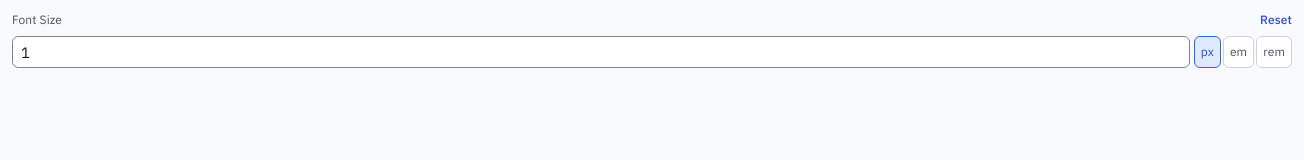
Scenario: the arrows stop at min and max
Click the field labelled "Font Size" at coordinates (601, 52), box [12,36,1190,68]
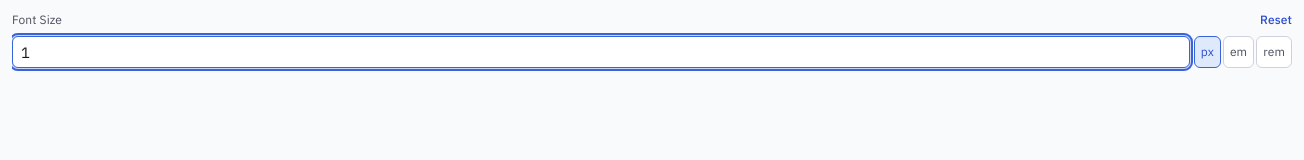
Press Arrowdown Arrowdown Arrowdown
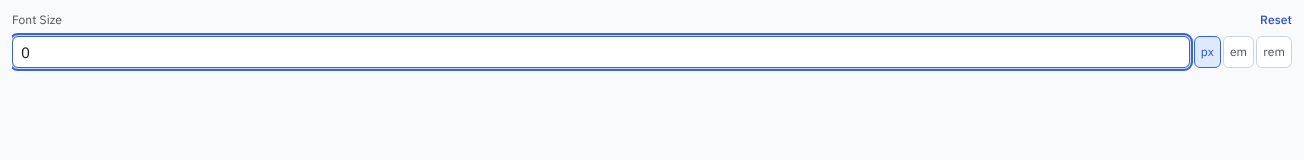
Result: the field labelled "Font Size" holds "0" at [12,36,1190,68]
Type keys "{Shift>}{ArrowUp}{/Shift}"
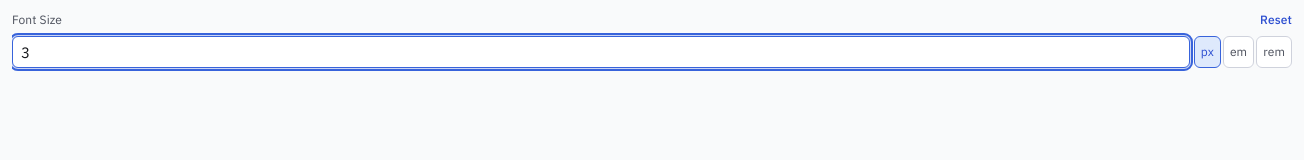
Result: the field labelled "Font Size" holds "3" at [12,36,1190,68]
